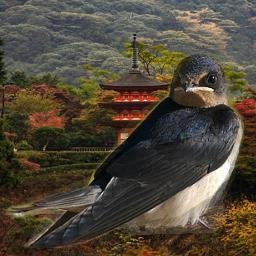Swallow: (1, 53, 244, 248)
